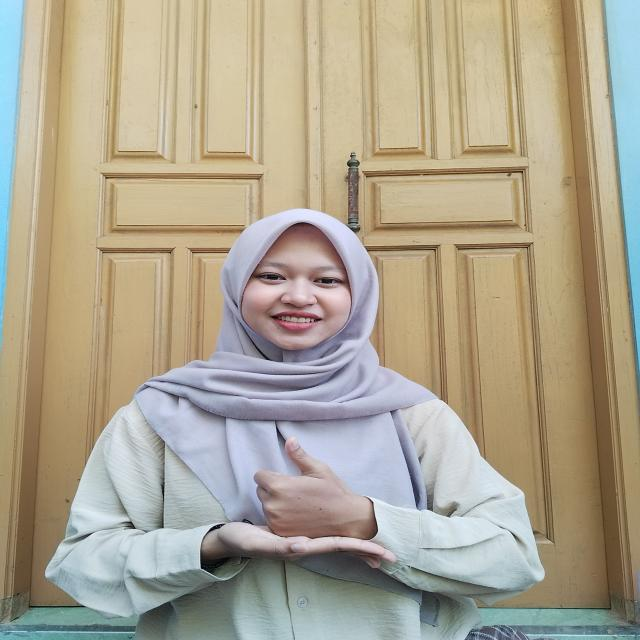cantik: (190, 429, 406, 577)
